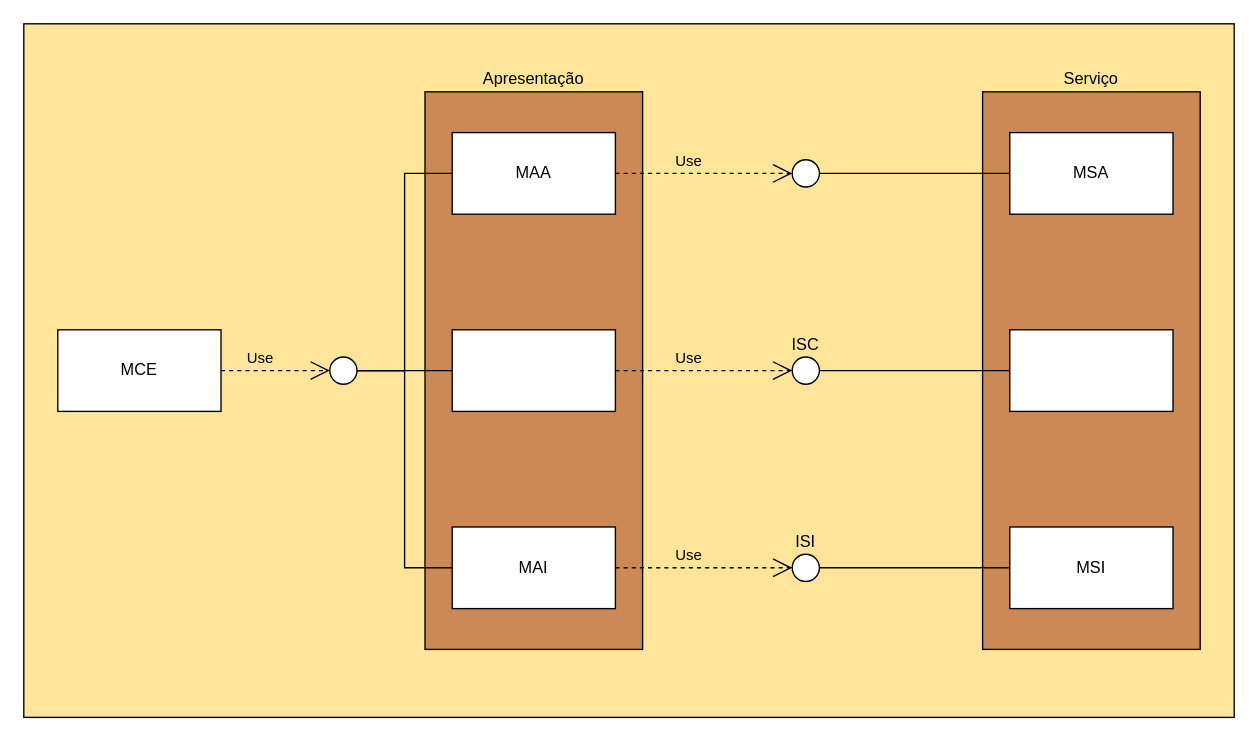
This 1258x741 diagram has some shape labels left out. Each missing label, with the centre of its shape:
"IA" belongs at (x=342, y=370).
"ISA" belongs at (x=805, y=172).
"MAC" belongs at (x=533, y=369).
"MSC" belongs at (x=1090, y=369).
